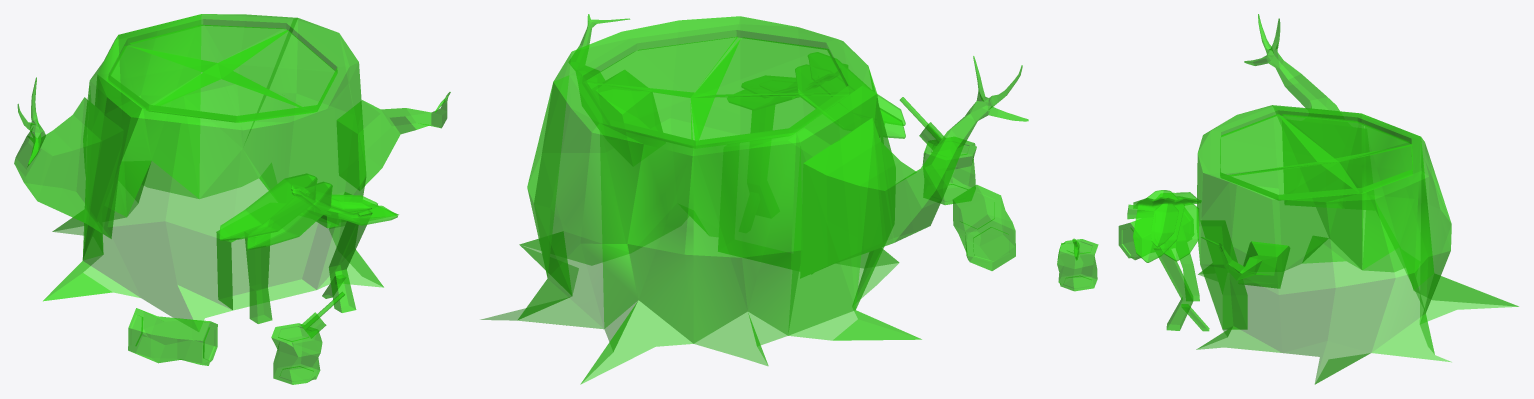
Rendered from Wood_house_possible_to_place.fbx.
3 renders of one model, left to right at view 1: azimuth 30°, elevation 25°; view 2: azimuth 150°, elevation 25°; view 3: azimuth 270°, elevation 25°, orthographic. The views are drawn at different scales.
Parts seen in each view (by area): view 1: Cube.014; view 2: Cube.014; view 3: Cube.014.
Boxes of the visible parts, x1=… form: Cube.014: x1=14, y1=14, x2=450, y2=384; Cube.014: x1=480, y1=14, x2=1028, y2=384; Cube.014: x1=1057, y1=14, x2=1518, y2=384.
Size of the model in its own units: 7 by 8 by 4.
